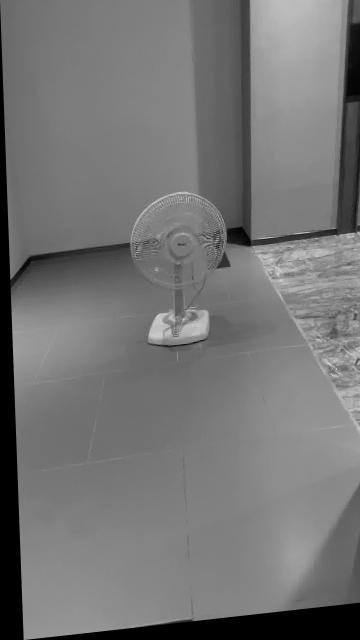Fan: (128, 196, 225, 351)
